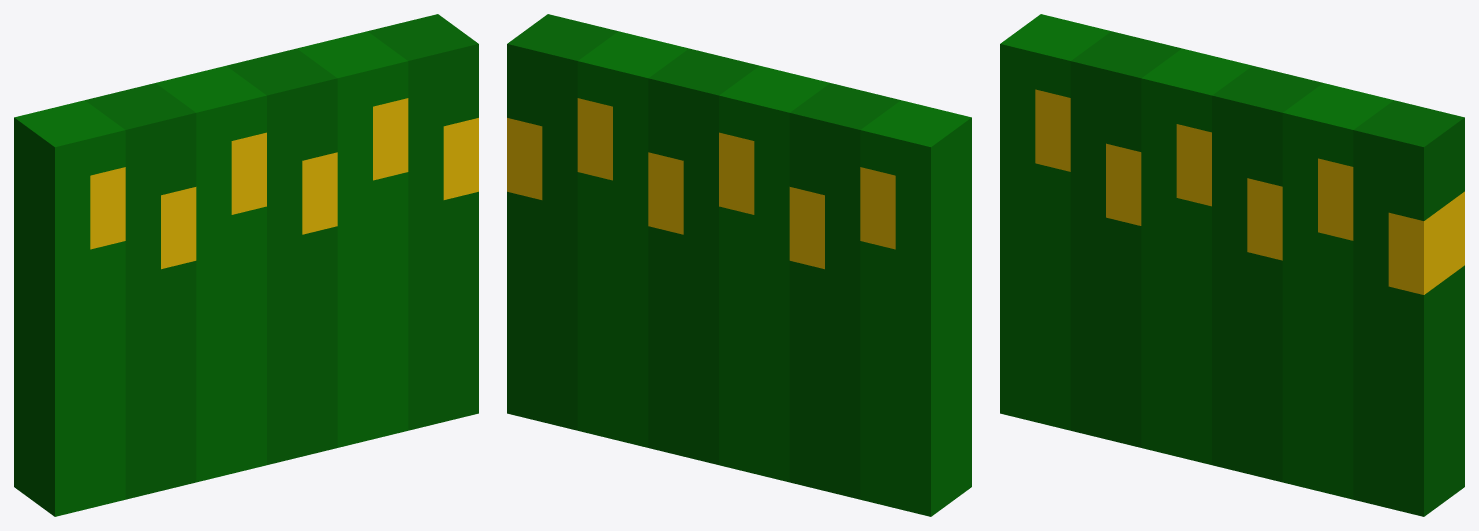
File: HalfWall-1.obj
The picture shows the model from 3 angles, left to right: view 1: azimuth 30°, elevation 25°; view 2: azimuth 150°, elevation 25°; view 3: azimuth 330°, elevation 25°; orthographic projection.
Parts seen in each view (by area): view 1: HalfWall-1; view 2: HalfWall-1; view 3: HalfWall-1.
Boxes of the visible parts, x1,y1,x2,y2 form: HalfWall-1: (14,14,478,516); HalfWall-1: (507,14,971,516); HalfWall-1: (1000,14,1464,516).
Size of the model in its own units: 12 by 10 by 2.
1 material, 1 textured.
